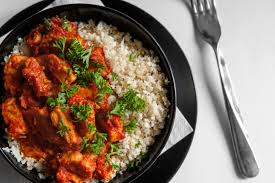rendang: (1, 9, 160, 183)
